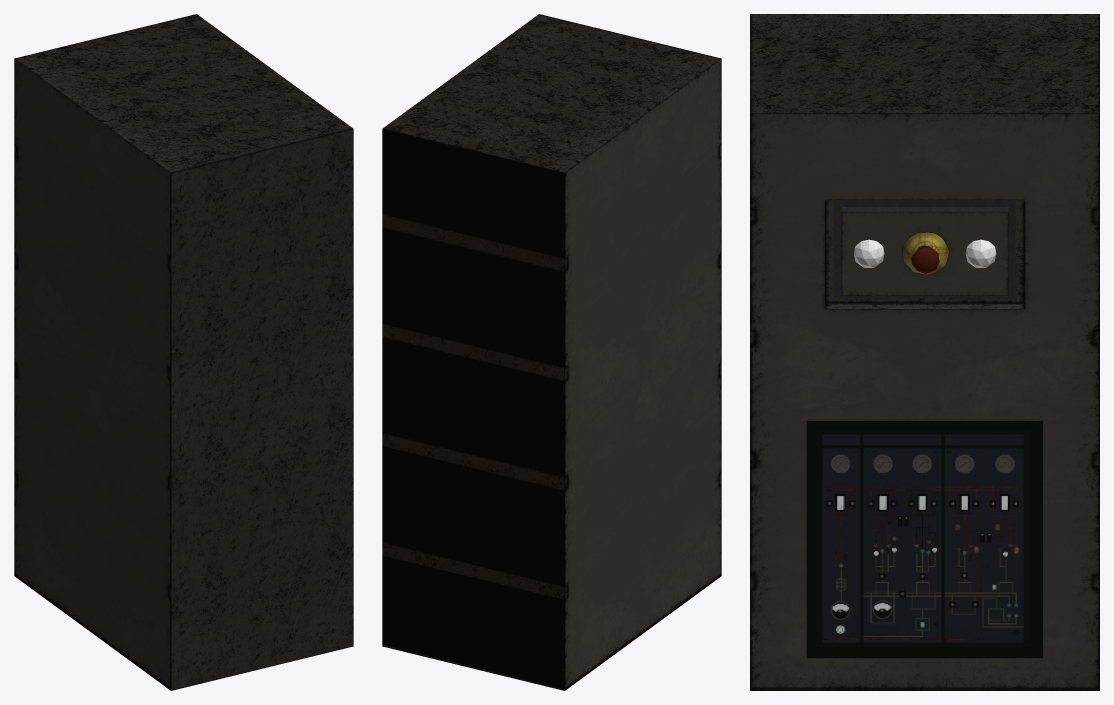
The model's file is Rack_Eletric.fbx.
The picture shows the model from 3 angles, left to right: view 1: azimuth 30°, elevation 25°; view 2: azimuth 150°, elevation 25°; view 3: azimuth 270°, elevation 25°; orthographic projection. The views are drawn at different scales.
Visible parts, largest first — view 1: Cube; view 2: Cube; view 3: Cube, Red pannic button, Light.001, Light.
Part boxes in pixels (bbox=[...]): Cube: bbox=[14, 14, 353, 690]; Cube: bbox=[382, 14, 721, 690]; Cube: bbox=[750, 14, 1099, 690]; Red pannic button: bbox=[903, 232, 949, 274]; Light.001: bbox=[965, 239, 996, 267]; Light: bbox=[853, 239, 884, 267].
Size of the model in its own units: 138 by 346 by 190.
Materials: 3 (2 with a texture image).
